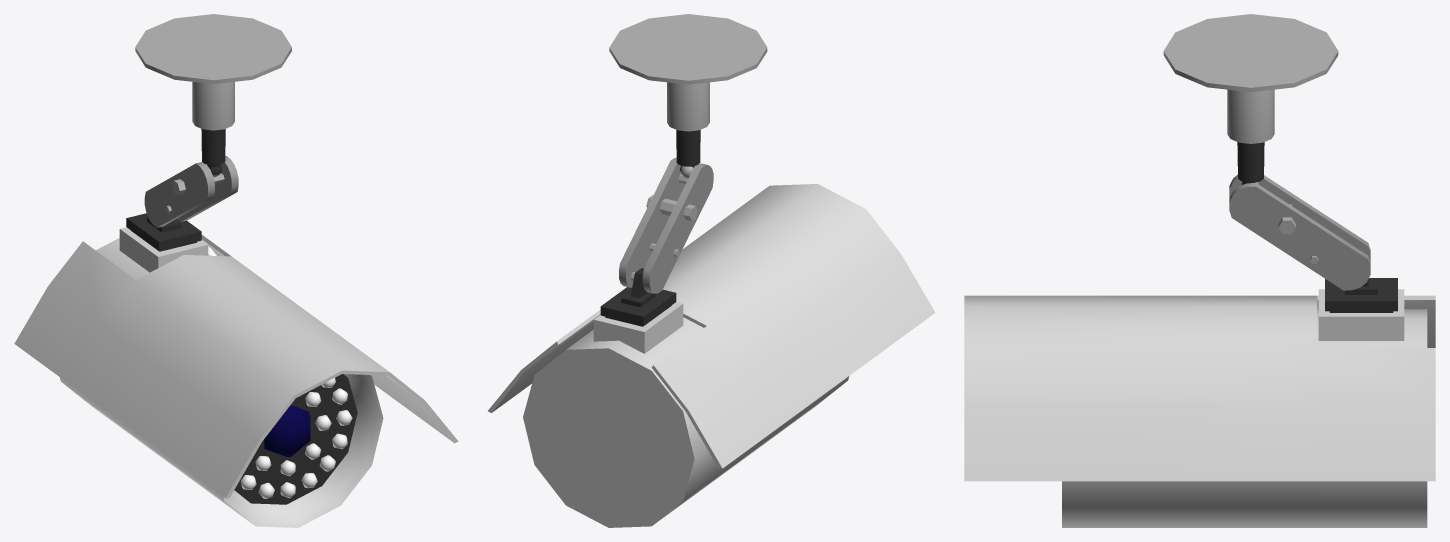
3 views of the same model, side by side, from view 1: azimuth 30°, elevation 25°; view 2: azimuth 150°, elevation 25°; view 3: azimuth 270°, elevation 25° (orthographic). The views are drawn at different scales.
Parts seen in each view (by area): view 1: Lo-Body_01; view 2: Lo-Body_01; view 3: Lo-Body_01.
Boxes of the visible parts, box(x1,y1,x2,y2) form: Lo-Body_01: box(14, 14, 458, 527); Lo-Body_01: box(488, 14, 935, 527); Lo-Body_01: box(964, 14, 1435, 527).
Size of the model in its own units: 0.1262 by 0.2166 by 0.198.
Materials: 1 (1 with a texture image).
